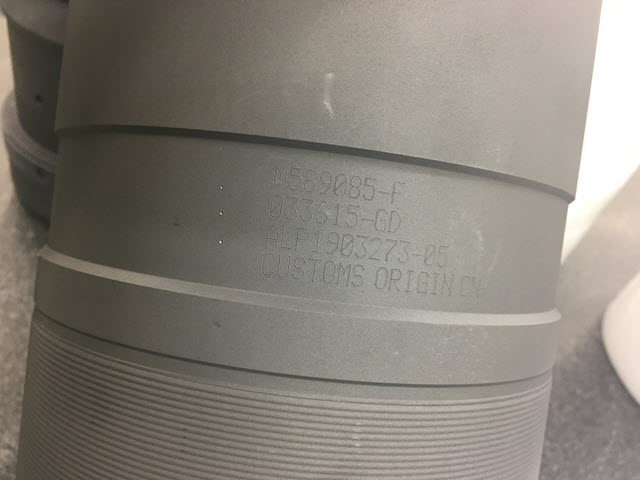character: (290, 224, 311, 254), (388, 176, 407, 208), (346, 263, 368, 290), (258, 250, 279, 278), (286, 164, 305, 194), (270, 165, 290, 192), (399, 266, 417, 296), (282, 194, 301, 222), (323, 229, 342, 257), (266, 193, 285, 220), (380, 236, 398, 264), (316, 168, 333, 197), (321, 257, 338, 286), (414, 266, 431, 295), (346, 174, 364, 201), (371, 206, 389, 233), (334, 261, 352, 288), (385, 267, 403, 294), (313, 199, 330, 227), (263, 222, 280, 250), (351, 233, 368, 260), (289, 255, 306, 282), (305, 257, 322, 284), (332, 171, 348, 199), (303, 168, 319, 196), (298, 195, 314, 223), (343, 202, 359, 230), (386, 208, 402, 235), (338, 231, 354, 258), (362, 173, 376, 203), (276, 252, 291, 280), (373, 264, 388, 292), (394, 239, 410, 265), (278, 225, 293, 252), (367, 236, 382, 263), (456, 273, 471, 300), (328, 199, 341, 228), (359, 206, 374, 230), (421, 242, 436, 266), (376, 179, 389, 206), (310, 229, 323, 256), (428, 271, 441, 298), (439, 273, 453, 298), (434, 245, 449, 267), (469, 275, 482, 299), (410, 243, 424, 263)
